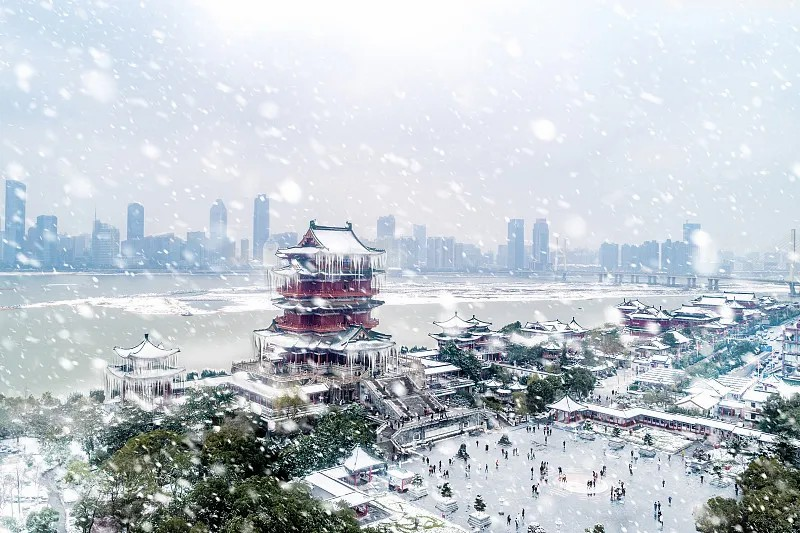Teng: (254, 219, 396, 376)
